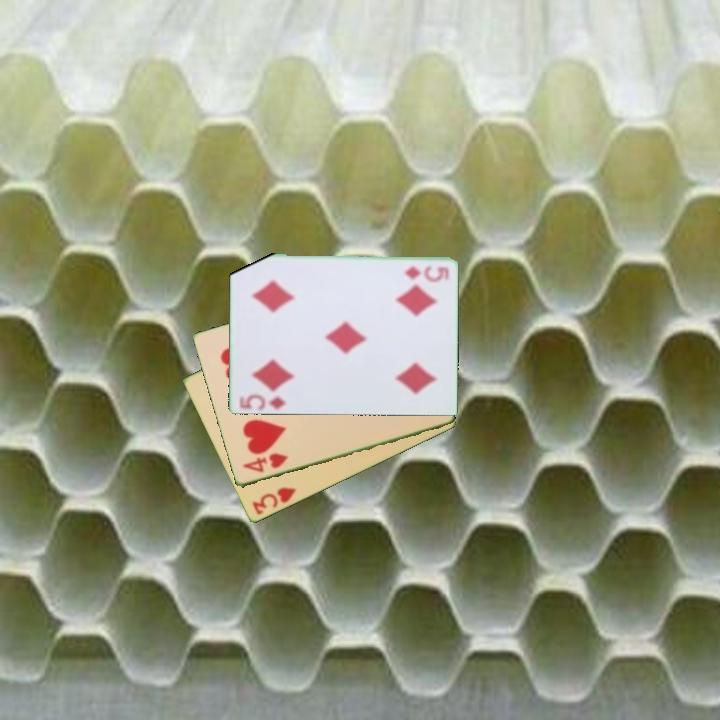3h: (248, 484, 299, 518)
4h: (239, 450, 291, 476)
5d: (236, 391, 289, 413), (401, 263, 451, 280)
